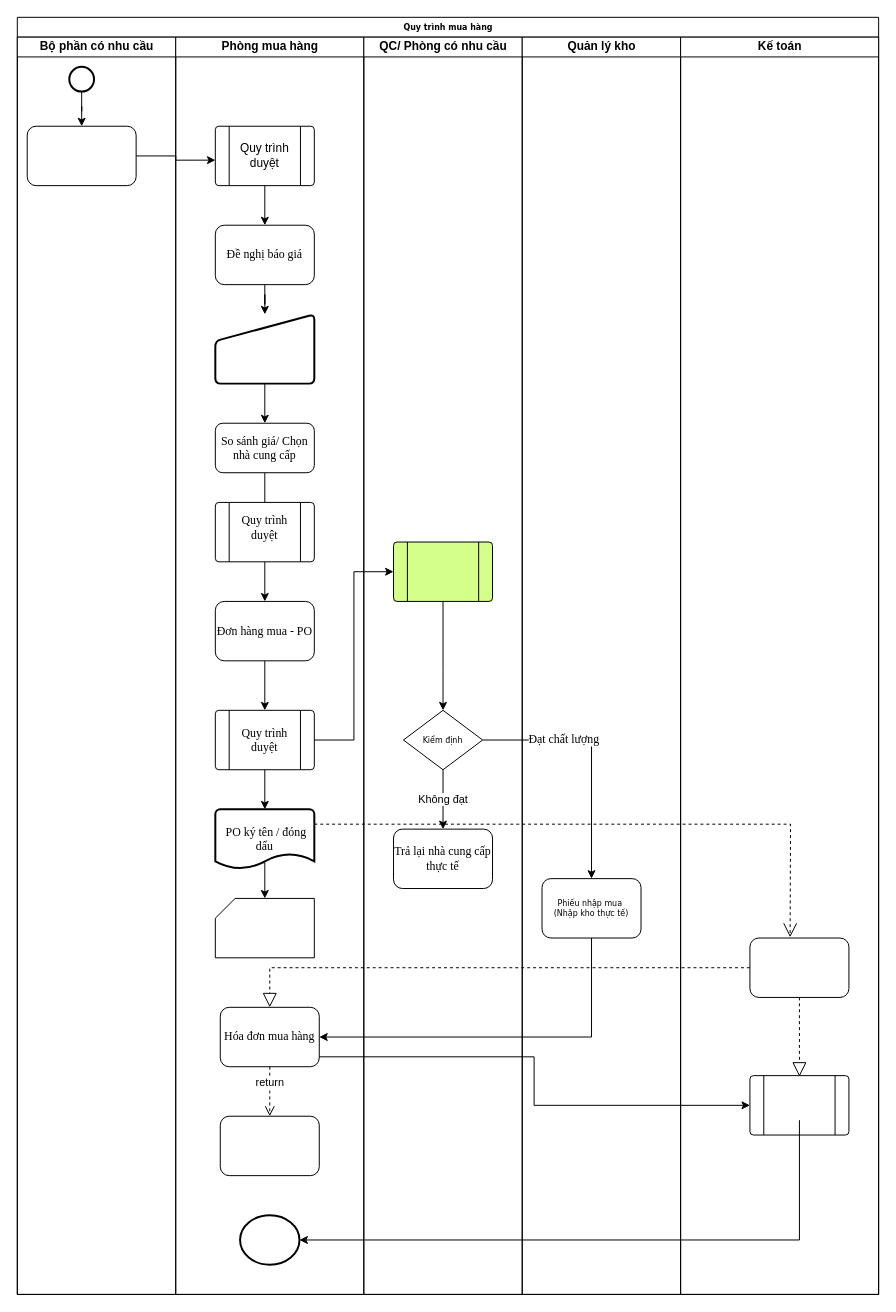
This 896x1312 diagram has some shape labels left out. The shapes that lost their labels are listed below. From the top down, each one's centre as x and y in pixels, then its label:
the point at 81,155: Phiếu nhu cầu vật tư
the point at 264,348: Báo giá từ nhà cung cấp
the point at 443,571: Chờ giao hàng
the point at 264,927: Gửi PO cho nhà cung cấp
the point at 799,967: Thanh toán ứng trước tiền hàng (nếu có)
the point at 799,1105: Thanh toán
the point at 269,1145: Phiếu xuất trả lại nhà cung cấp
the point at 269,1239: Đóng đơn hàng
